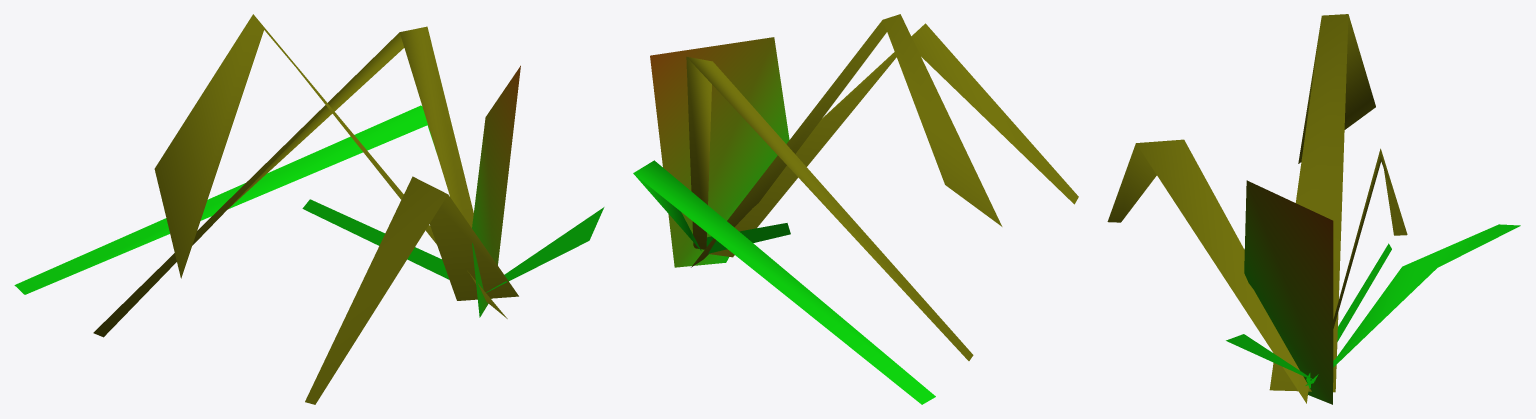
The model's file is Desert Grass_LOD1_Var4_scpho.fbx.
The picture shows the model from 3 angles, left to right: view 1: azimuth 30°, elevation 25°; view 2: azimuth 150°, elevation 25°; view 3: azimuth 270°, elevation 25°; orthographic projection. The views are drawn at different scales.
Visible parts, largest first — view 1: _c8c0_Var4_LOD1; view 2: _c8c0_Var4_LOD1; view 3: _c8c0_Var4_LOD1.
Boxes of the visible parts, x1,y1,x2,y2 form: _c8c0_Var4_LOD1: (14,14,604,404); _c8c0_Var4_LOD1: (633,14,1078,404); _c8c0_Var4_LOD1: (1107,14,1520,404).
Size of the model in its own units: 11.48 by 8.35 by 10.74.
